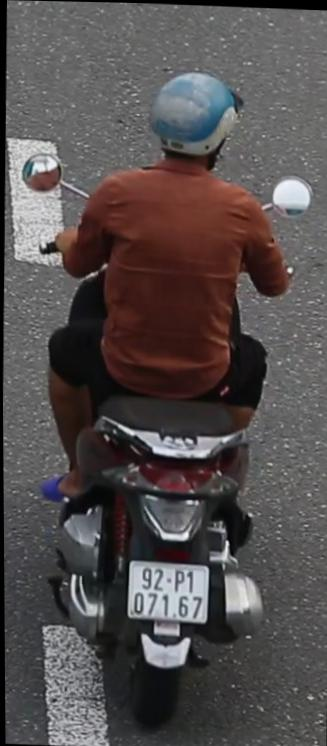LP: (123, 551, 212, 626)
helmet: (146, 62, 247, 181)
